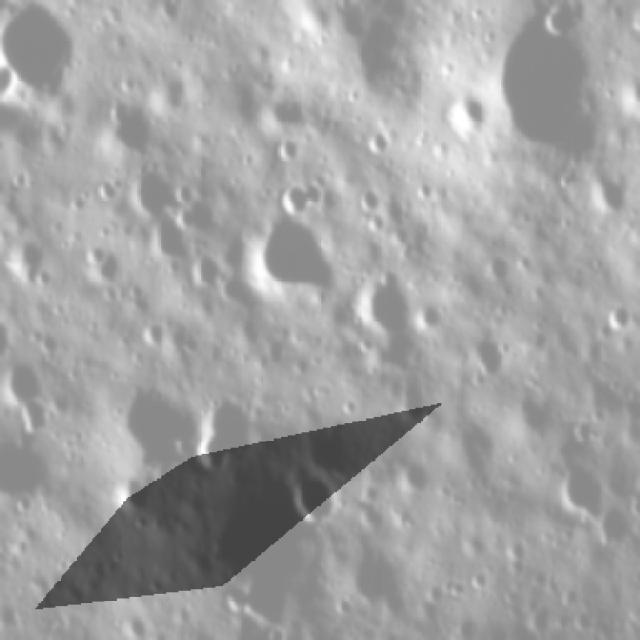crater: (486, 8, 602, 150), (0, 0, 78, 106), (105, 381, 197, 470), (253, 214, 336, 295), (190, 390, 262, 475), (2, 353, 53, 433), (284, 458, 336, 528), (549, 462, 606, 524), (0, 436, 54, 499), (101, 99, 159, 152), (439, 86, 490, 145), (369, 274, 413, 334), (464, 328, 507, 382), (142, 220, 192, 263), (106, 472, 156, 514), (383, 458, 432, 497), (3, 244, 51, 282), (133, 173, 182, 210), (592, 172, 628, 216), (211, 580, 255, 614), (597, 298, 631, 336), (88, 246, 120, 286), (482, 247, 512, 288), (89, 170, 122, 207), (565, 408, 598, 444), (197, 252, 223, 292), (118, 611, 150, 640), (153, 0, 189, 22), (276, 138, 306, 164), (568, 610, 598, 636), (522, 609, 552, 634), (467, 566, 493, 594), (502, 537, 529, 563), (364, 209, 390, 236), (556, 584, 584, 608), (419, 303, 443, 331), (356, 185, 386, 207), (142, 319, 162, 350), (0, 319, 15, 360), (369, 130, 393, 155), (454, 617, 480, 640), (352, 329, 374, 356), (416, 180, 438, 206), (341, 391, 359, 415), (334, 595, 354, 616), (0, 175, 9, 199), (360, 637, 386, 640)
